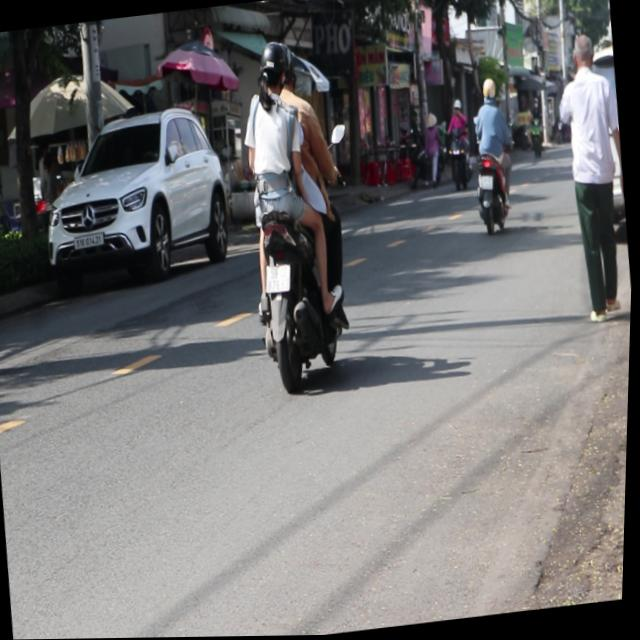helmet: (254, 40, 292, 106)
licenseplate: (223, 29, 368, 396)
nohelmet: (266, 264, 293, 292)
